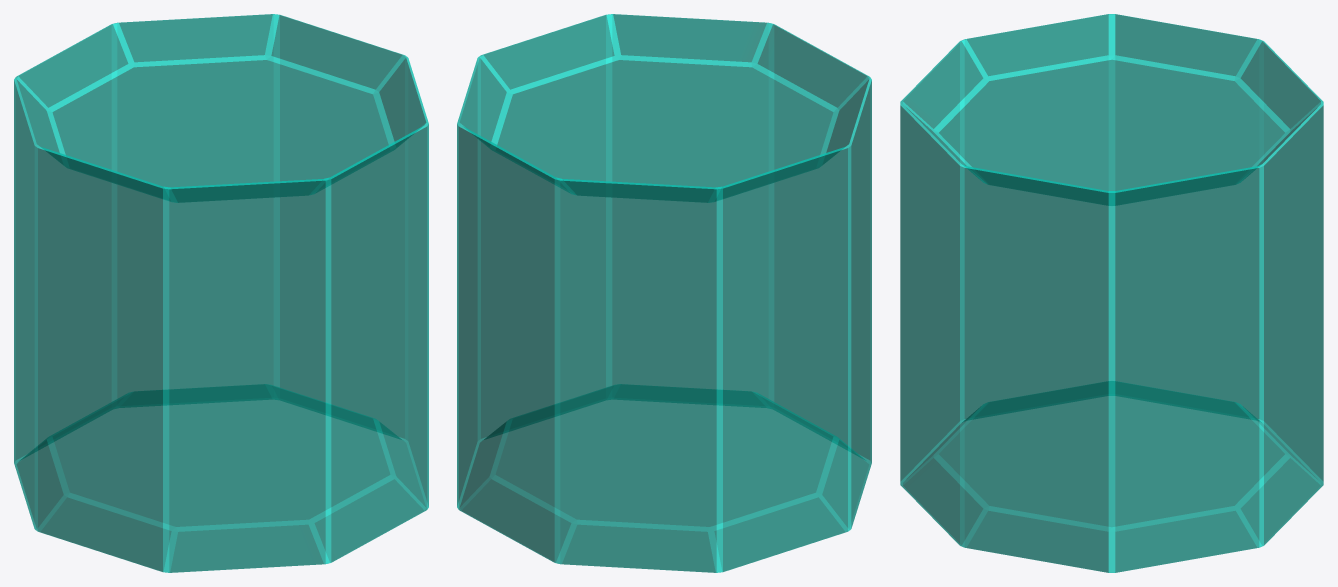
Rendered from CYLINDER_ALPHA.glb.
3 renders of one model, left to right at view 1: azimuth 30°, elevation 25°; view 2: azimuth 150°, elevation 25°; view 3: azimuth 270°, elevation 25°, orthographic.
Parts seen in each view (by area): view 1: Cylinder; view 2: Cylinder; view 3: Cylinder.
Part boxes in pixels (<box>): Cylinder: <box>14,14,428,572</box>; Cylinder: <box>457,14,871,572</box>; Cylinder: <box>900,14,1323,572</box>.
Bounding box in the file's own units: 2.01 × 2 × 2.01.
1 material, 1 textured.
